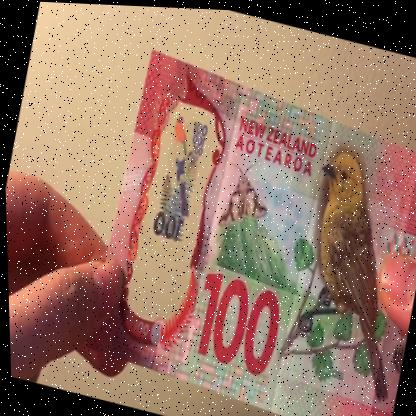100B: (133, 108, 216, 301)
